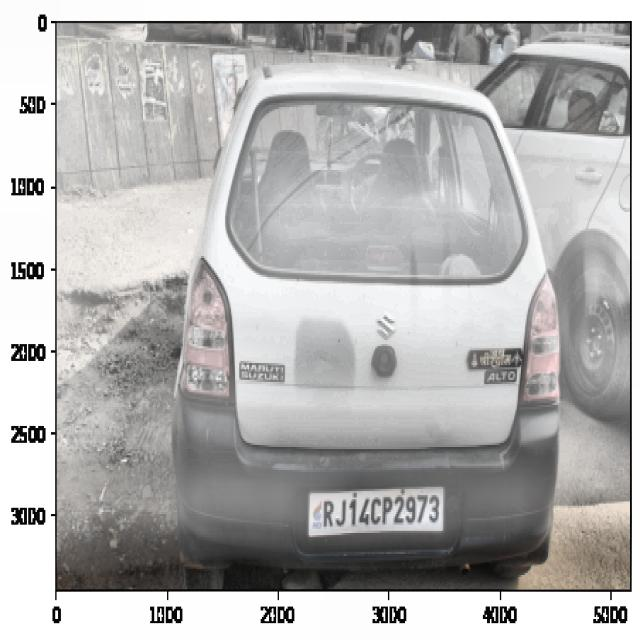license_plate: (319, 486, 445, 532)
